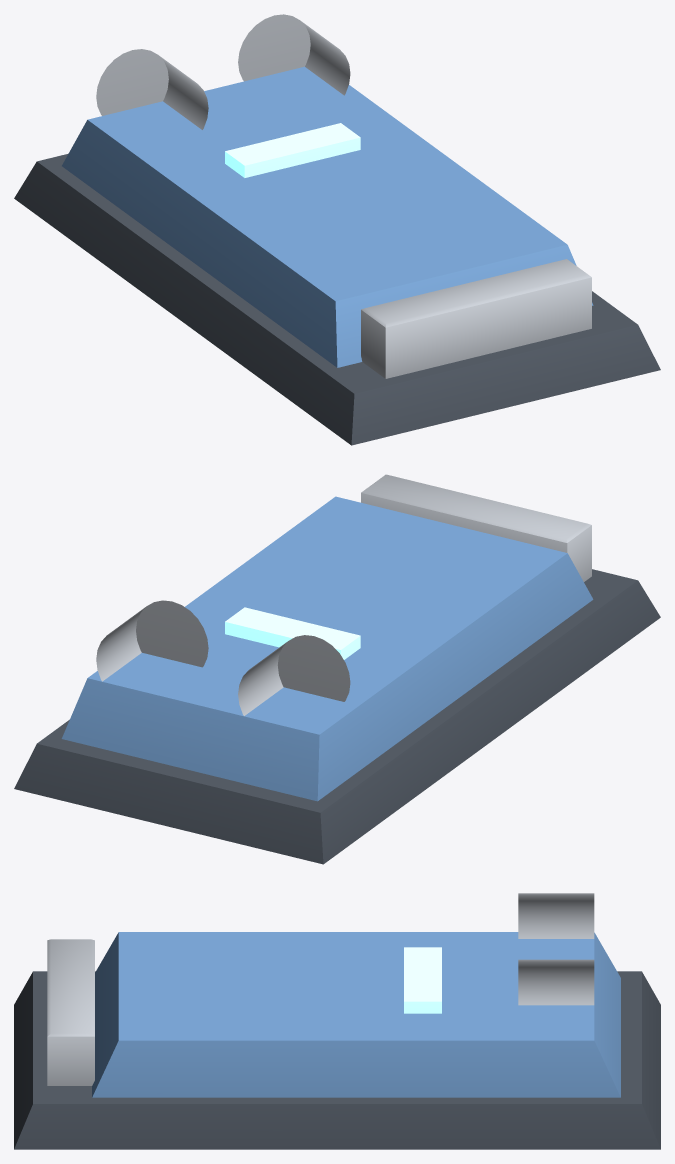
The model's file is lcrf.glb.
3 views of the same model, one above another, from view 1: azimuth 30°, elevation 25°; view 2: azimuth 150°, elevation 25°; view 3: azimuth 270°, elevation 25° (orthographic). The views are drawn at different scales.
Parts seen in each view (by area): view 1: Hull; view 2: Hull; view 3: Hull.
Part boxes in pixels (left/top/right/bottom): Hull: left=14, top=14, right=660, bottom=445; Hull: left=14, top=474, right=660, bottom=864; Hull: left=14, top=893, right=660, bottom=1149.
Bounding box in the file's own units: 1.73 × 0.819 × 3.26.
